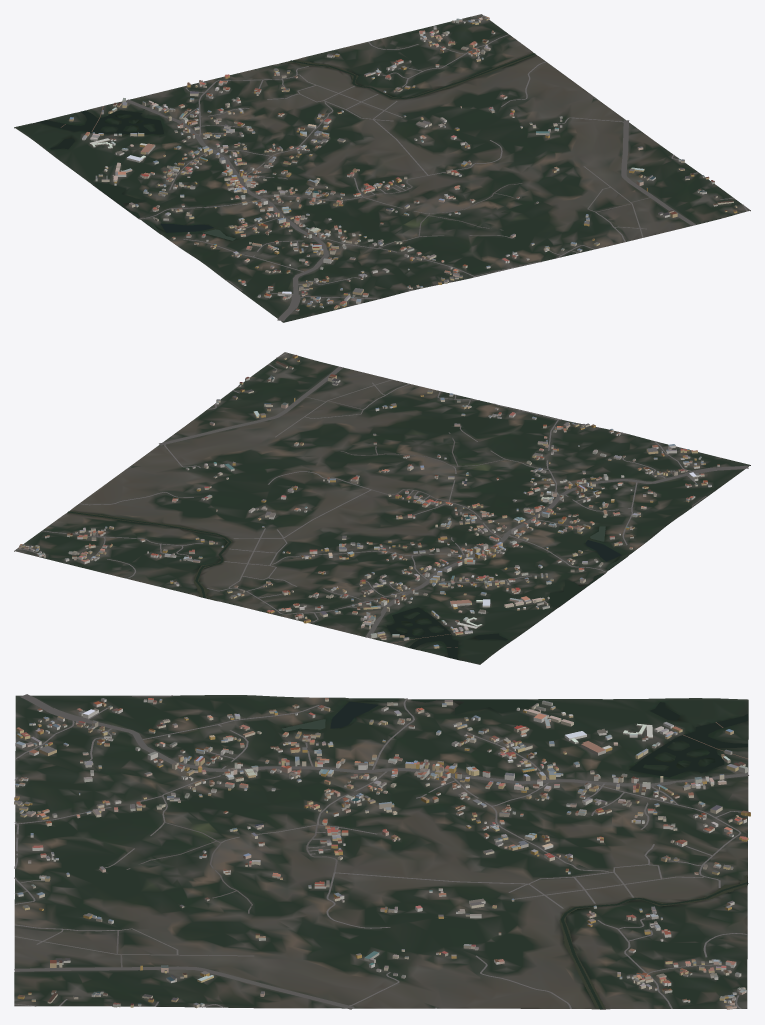
3 renders of one model, top to bottom at view 1: azimuth 30°, elevation 25°; view 2: azimuth 150°, elevation 25°; view 3: azimuth 270°, elevation 25°, orthographic. The views are drawn at different scales.
Visible parts, largest first — view 1: ground, buildings, roads, water; view 2: ground, buildings, roads, water; view 3: ground, buildings, roads, water.
Part boxes in pixels (left/top/right/bottom): ground: left=14, top=14, right=750, bottom=322; buildings: left=69, top=15, right=737, bottom=311; roads: left=61, top=15, right=747, bottom=321; water: left=36, top=52, right=535, bottom=240; ground: left=14, top=352, right=750, bottom=664; buildings: left=18, top=355, right=719, bottom=648; roads: left=16, top=352, right=748, bottom=647; water: left=67, top=510, right=626, bottom=659; ground: left=14, top=695, right=748, bottom=1009; buildings: left=14, top=698, right=750, bottom=1009; roads: left=14, top=694, right=748, bottom=1009; water: left=282, top=698, right=748, bottom=1009.
Bounding box in the file's own units: 1412 × 22.42 × 1410.
